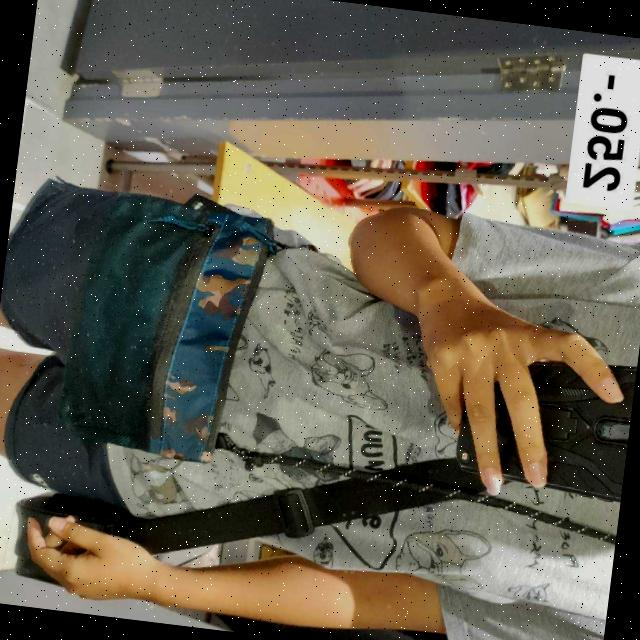Handbag: (47, 184, 277, 468)
